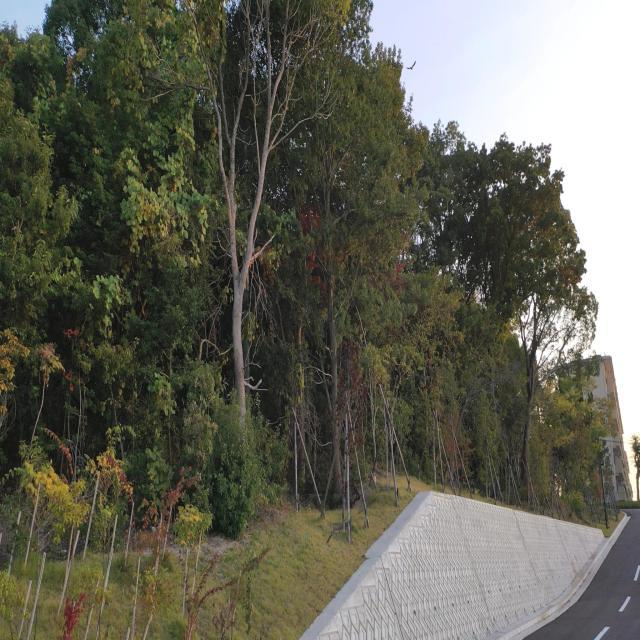Birds: (398, 46, 426, 84)
